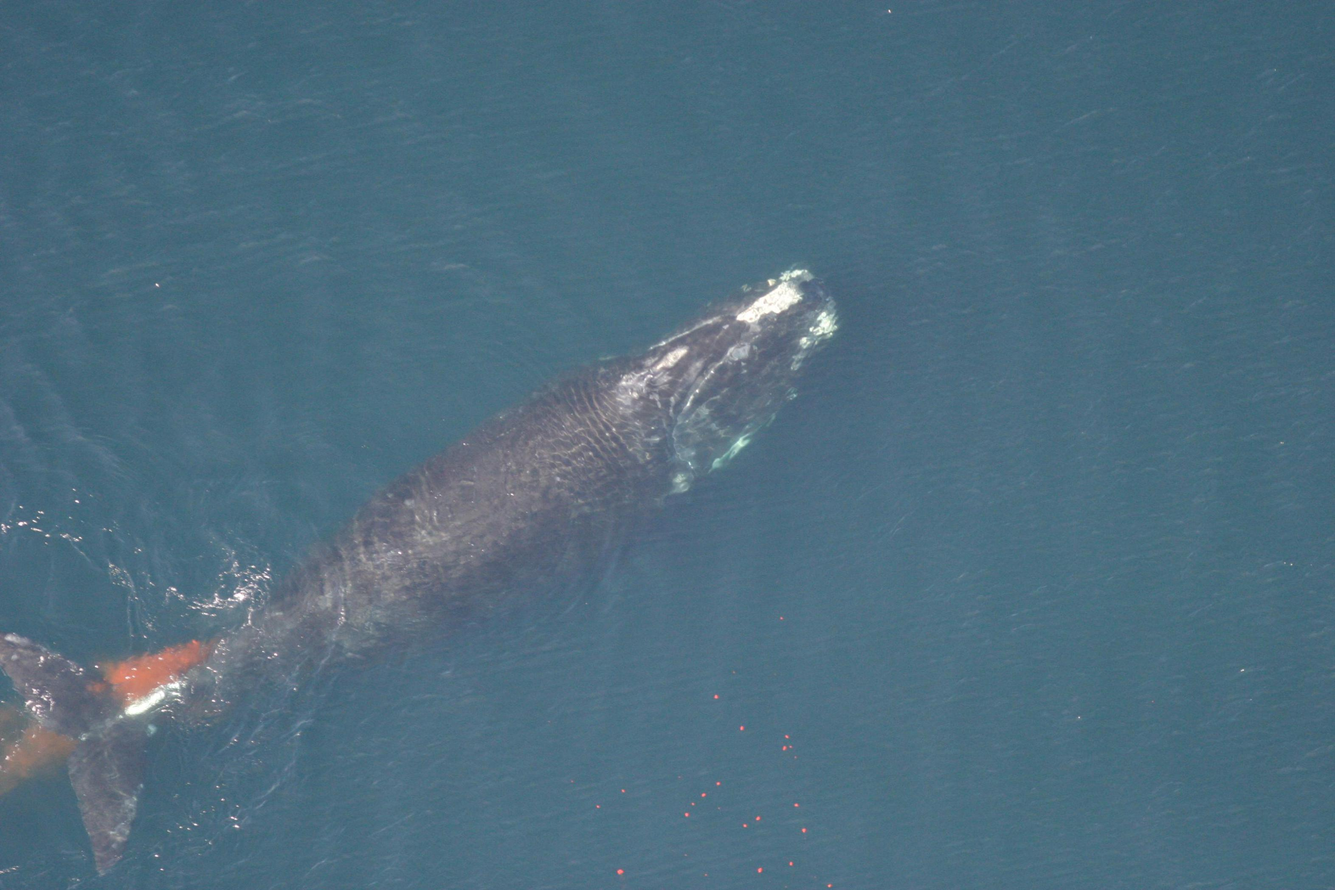whale: (0, 253, 848, 883)
